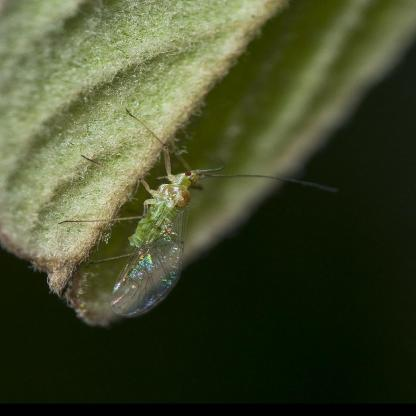aphid: (68, 100, 280, 330)
